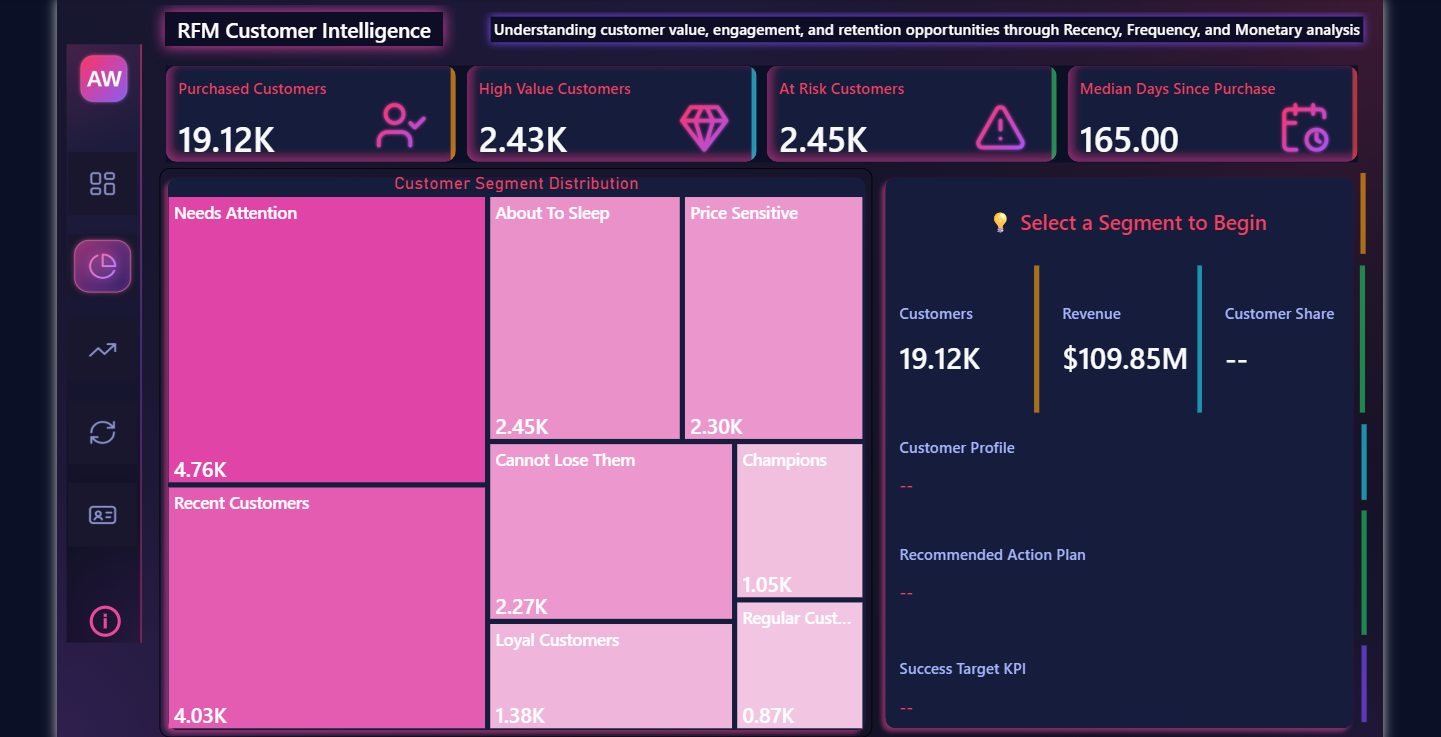

What the dashboard file says about the page in this screenshot:
{"tool":"powerbi","page":{"name":"RFM Customer Intelligence","canvas":[1280,720],"ordinal":1},"visuals":[{"type":"shape","box":[90.5,0,295.9,59.9],"z":0},{"type":"shape","box":[98,164.1,692,552],"z":0,"group":"g1"},{"type":"shape","box":[410,10,858.9,41.4],"z":1000},{"type":"image","box":[1.2,40,88.8,587.5],"z":2000},{"type":"cardVisual","fields":{"Data":["_Measures.Purchased Customers","_Measures.High Value Customers","_Measures.At Risk Customers","_Measures.Median Days Since Purchase"]},"box":[99.6,60.6,1161.3,103.6],"z":3000},{"type":"treemap","title":"Customer Segment Distribution","fields":{"Values":["_Measures.Purchased Customers"],"Group":["gold fact_customer_analytics.customer_segment"]},"box":[99.7,164.3,687.8,550],"z":4000,"group":"g1"},{"type":"actionButton","box":[26.2,581.2,40,40],"z":4000},{"type":"shape","box":[790.5,164.3,470.3,550],"z":4500,"group":"g2"},{"type":"group","id":"g1","title":"Group 1","box":[98,164.1,692,552],"z":5000},{"type":"cardVisual","fields":{"Data":["_Measures.Purchased Customers","_Measures.Revenue","_Measures.MAC_Segment_Share"]},"box":[796.4,253.4,473.7,152.9],"z":5000,"group":"g2"},{"type":"cardVisual","fields":{"Data":["_Measures.MAC_Header_Title"]},"box":[796.4,164.6,472.3,88.8],"z":6000,"group":"g2"},{"type":"group","id":"g2","title":"Group 2","box":[790.5,164.3,479.6,550],"z":7000},{"type":"cardVisual","fields":{"Data":["_Measures.MAC_Customer_Profile"]},"box":[796.4,406.3,473.7,83.6],"z":7000,"group":"g2"},{"type":"group","id":"g3","title":"Group 3","box":[410,0,692.2,385],"z":8000},{"type":"cardVisual","fields":{"Data":["_Measures.MAC_Marketing_Strategy"]},"box":[796.4,489.9,473.7,130.6],"z":8000,"group":"g2"},{"type":"image","box":[12.5,32.5,66.2,90],"z":9000},{"type":"cardVisual","fields":{"Data":["_Measures.MAC_Primary_KPI"]},"box":[796,619.9,473.9,84.2],"z":9000,"group":"g2"},{"type":"group","id":"g4","title":"Group 5","box":[11.2,148.8,66.2,381.2],"z":10000},{"type":"image","box":[287.1,83.2,90.5,79.6],"z":11000},{"type":"image","box":[579.1,85.7,90.5,78.4],"z":12000},{"type":"image","box":[865,85.7,90.5,78.4],"z":13000},{"type":"actionButton","box":[11.2,148.8,66.2,61.2],"z":13000,"group":"g4"},{"type":"image","box":[1158.2,85.7,90.5,78.4],"z":14000},{"type":"actionButton","box":[11.2,228.8,66.2,61.2],"z":14000,"group":"g4"},{"type":"actionButton","box":[11.2,388.8,66.2,61.2],"z":15000,"group":"g4"},{"type":"actionButton","box":[11.2,308.8,66.2,61.2],"z":16000,"group":"g4"},{"type":"actionButton","box":[11.2,468.8,66.2,61.2],"z":17000,"group":"g4"}]}

Visuals, with their boxes on the page's 1280x720 design canvas (x1, y1, x2, y2). These are canvas units, not pixel positions in the 1441x737 screenshot, which may show the page scaled, cropped or inside an application window:
shape: {"x1": 90, "y1": 0, "x2": 386, "y2": 60}
shape: {"x1": 98, "y1": 164, "x2": 790, "y2": 716}
shape: {"x1": 410, "y1": 10, "x2": 1269, "y2": 51}
image: {"x1": 1, "y1": 40, "x2": 90, "y2": 628}
cardVisual - _Measures.Purchased Customers x _Measures.High Value Customers: {"x1": 100, "y1": 61, "x2": 1261, "y2": 164}
"Customer Segment Distribution" treemap: {"x1": 100, "y1": 164, "x2": 788, "y2": 714}
actionButton: {"x1": 26, "y1": 581, "x2": 66, "y2": 621}
shape: {"x1": 790, "y1": 164, "x2": 1261, "y2": 714}
"Group 1" group: {"x1": 98, "y1": 164, "x2": 790, "y2": 716}
cardVisual - _Measures.Purchased Customers x _Measures.Revenue: {"x1": 796, "y1": 253, "x2": 1270, "y2": 406}
cardVisual - _Measures.MAC_Header_Title: {"x1": 796, "y1": 165, "x2": 1269, "y2": 253}
"Group 2" group: {"x1": 790, "y1": 164, "x2": 1270, "y2": 714}
cardVisual - _Measures.MAC_Customer_Profile: {"x1": 796, "y1": 406, "x2": 1270, "y2": 490}
"Group 3" group: {"x1": 410, "y1": 0, "x2": 1102, "y2": 385}
cardVisual - _Measures.MAC_Marketing_Strategy: {"x1": 796, "y1": 490, "x2": 1270, "y2": 620}
image: {"x1": 12, "y1": 32, "x2": 79, "y2": 122}
cardVisual - _Measures.MAC_Primary_KPI: {"x1": 796, "y1": 620, "x2": 1270, "y2": 704}
"Group 5" group: {"x1": 11, "y1": 149, "x2": 77, "y2": 530}
image: {"x1": 287, "y1": 83, "x2": 378, "y2": 163}
image: {"x1": 579, "y1": 86, "x2": 670, "y2": 164}
image: {"x1": 865, "y1": 86, "x2": 956, "y2": 164}
actionButton: {"x1": 11, "y1": 149, "x2": 77, "y2": 210}
image: {"x1": 1158, "y1": 86, "x2": 1249, "y2": 164}
actionButton: {"x1": 11, "y1": 229, "x2": 77, "y2": 290}
actionButton: {"x1": 11, "y1": 389, "x2": 77, "y2": 450}
actionButton: {"x1": 11, "y1": 309, "x2": 77, "y2": 370}
actionButton: {"x1": 11, "y1": 469, "x2": 77, "y2": 530}
